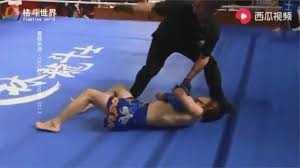fall: (31, 84, 232, 131)
